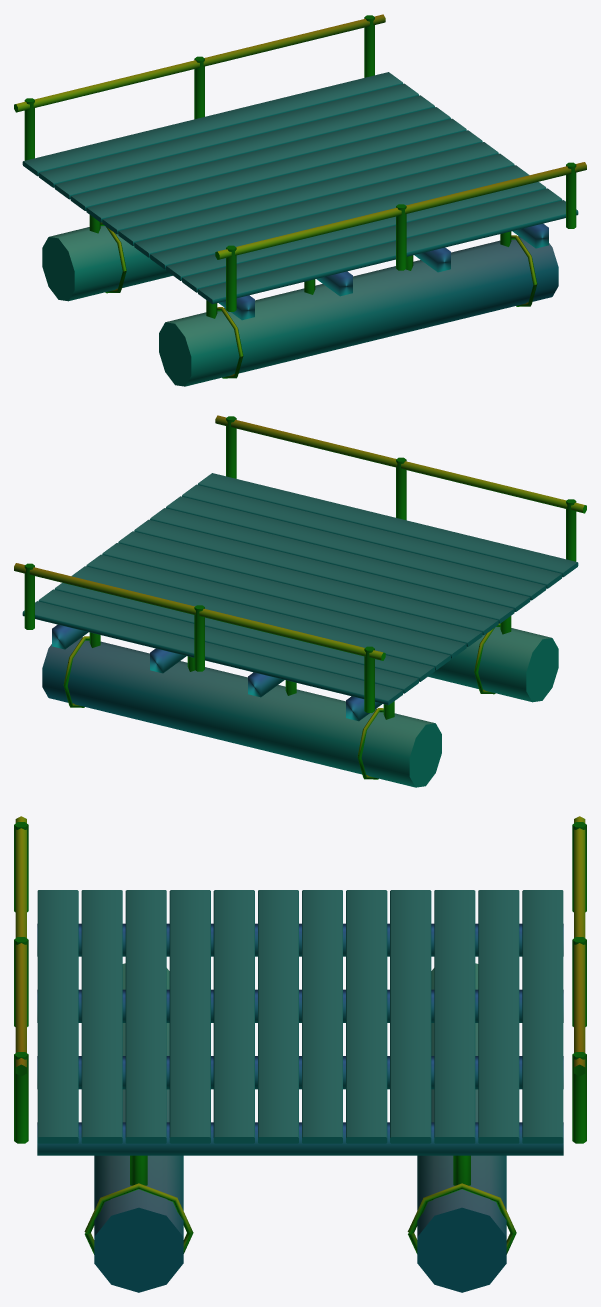
Rendered from hm_dock_4m.glb.
The picture shows the model from 3 angles, top to bottom: view 1: azimuth 30°, elevation 25°; view 2: azimuth 150°, elevation 25°; view 3: azimuth 270°, elevation 25°; orthographic projection. The views are drawn at different scales.
Visible parts, largest first — view 1: hm_dock_4m; view 2: hm_dock_4m; view 3: hm_dock_4m.
Boxes of the visible parts, x1=… form: hm_dock_4m: x1=14, y1=14, x2=586, y2=386; hm_dock_4m: x1=14, y1=415, x2=586, y2=787; hm_dock_4m: x1=14, y1=816, x2=586, y2=1292.
Size of what is drawn, in the model's own units: 4 by 1.77 by 3.9.
